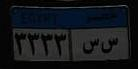3: (54, 32, 68, 57), (13, 32, 26, 57), (28, 32, 40, 56), (41, 33, 53, 56)
seen: (81, 37, 100, 55), (101, 36, 118, 53)
